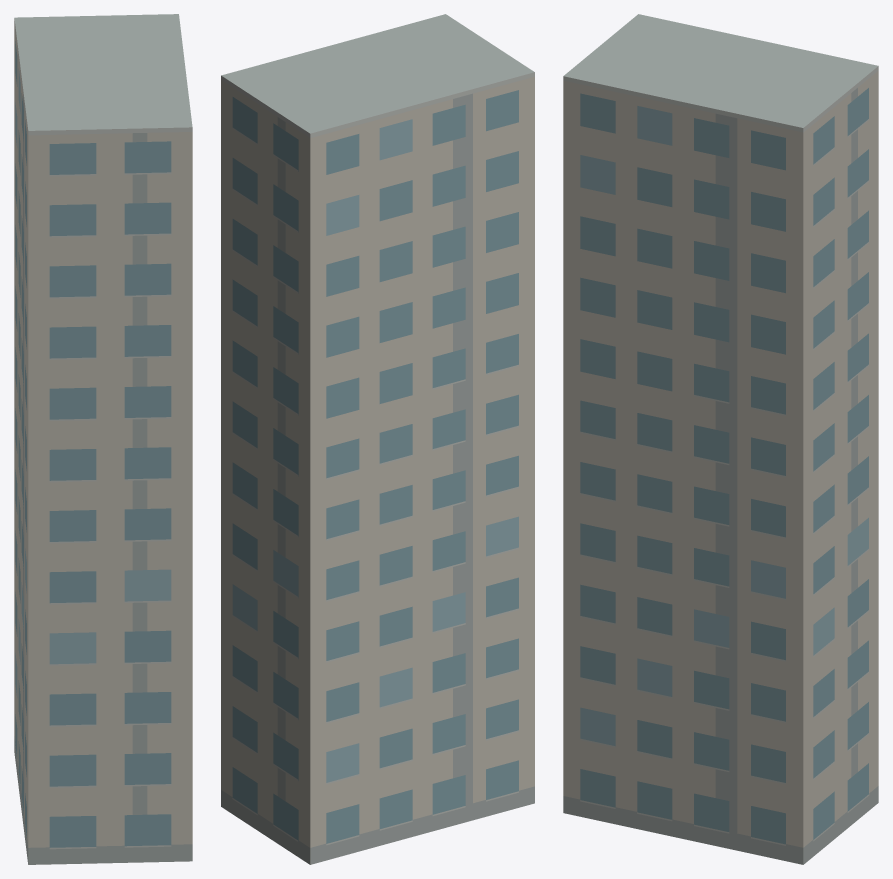
File: residential-b8d624ae-cc78-4954-95b7-0535c1ab14b2.glb
The picture shows the model from 3 angles, left to right: view 1: azimuth 30°, elevation 25°; view 2: azimuth 150°, elevation 25°; view 3: azimuth 270°, elevation 25°; orthographic projection.
Visible parts, largest first — view 1: residential-b8d624ae-cc78-4954-95b7-0535c1ab14b2.tmp; view 2: residential-b8d624ae-cc78-4954-95b7-0535c1ab14b2.tmp; view 3: residential-b8d624ae-cc78-4954-95b7-0535c1ab14b2.tmp.
Part boxes in pixels (x1,y1,x2,y2): residential-b8d624ae-cc78-4954-95b7-0535c1ab14b2.tmp: [14, 14, 192, 864]; residential-b8d624ae-cc78-4954-95b7-0535c1ab14b2.tmp: [221, 14, 534, 864]; residential-b8d624ae-cc78-4954-95b7-0535c1ab14b2.tmp: [563, 14, 878, 864].
Bounding box in the file's own units: 13.29 × 40 × 15.53.
